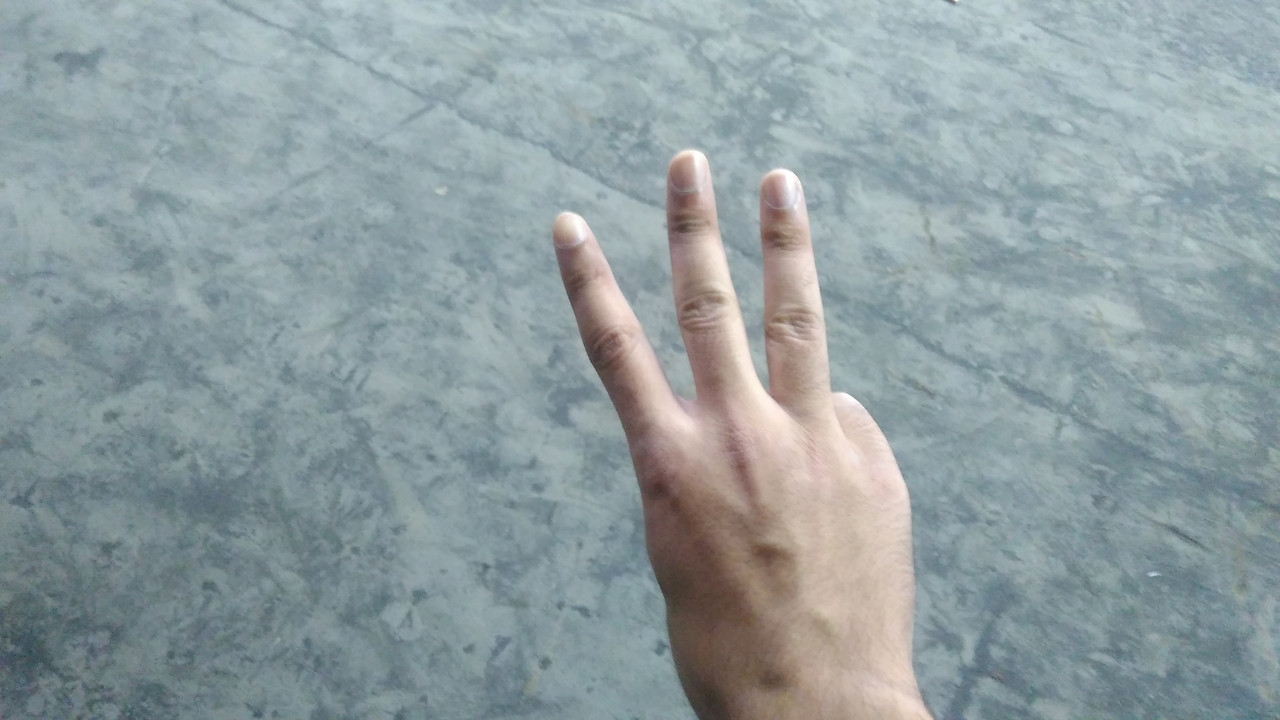fingertip: (752, 160, 812, 222), (660, 142, 720, 200), (544, 198, 602, 256)
